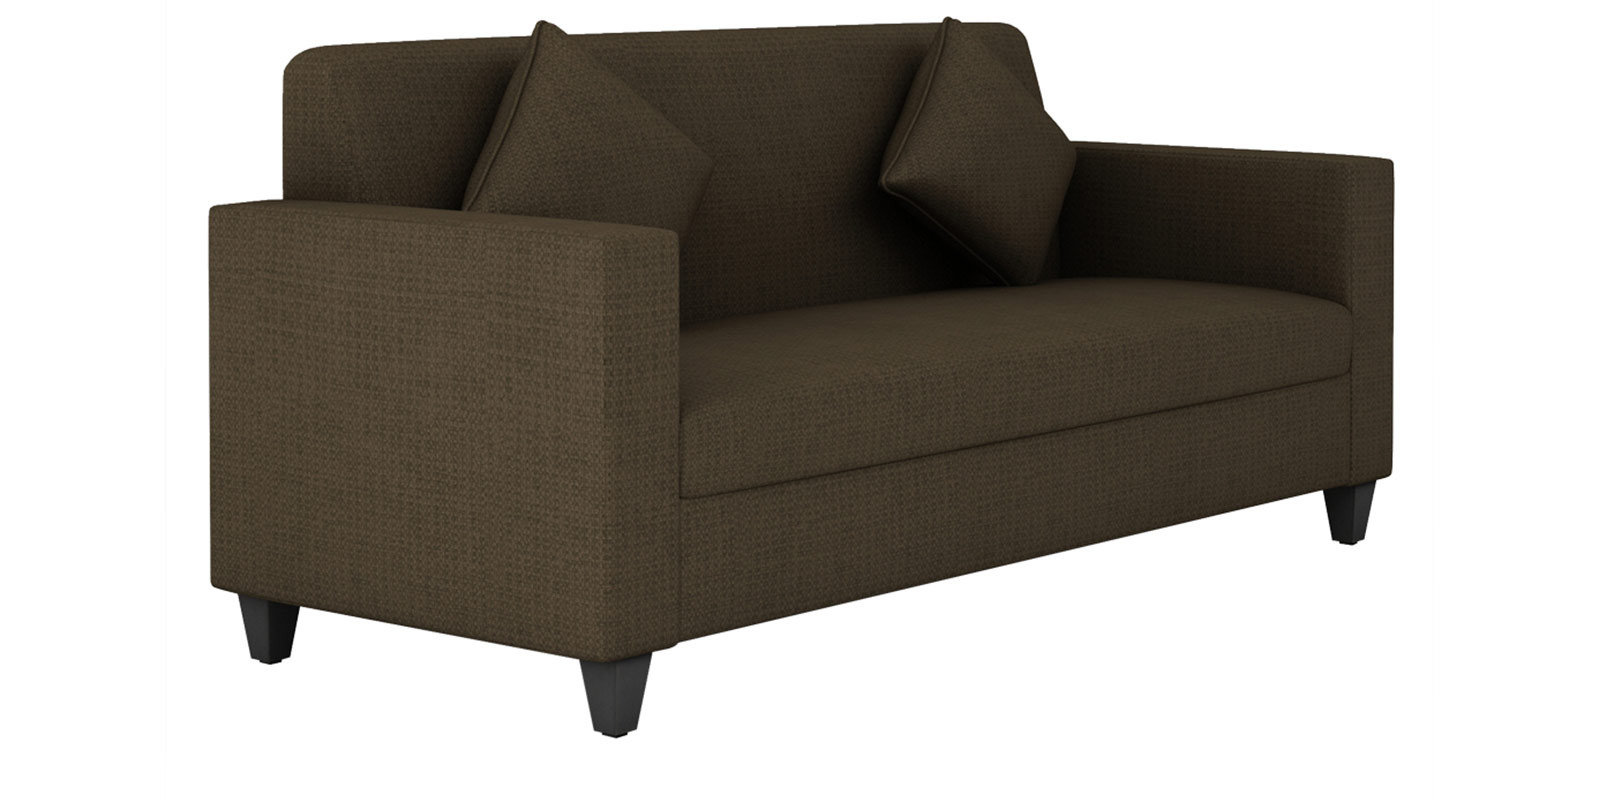Cooper Three Seater Sofa in Beige Colour by ARRA: (173, 11, 1409, 696)
